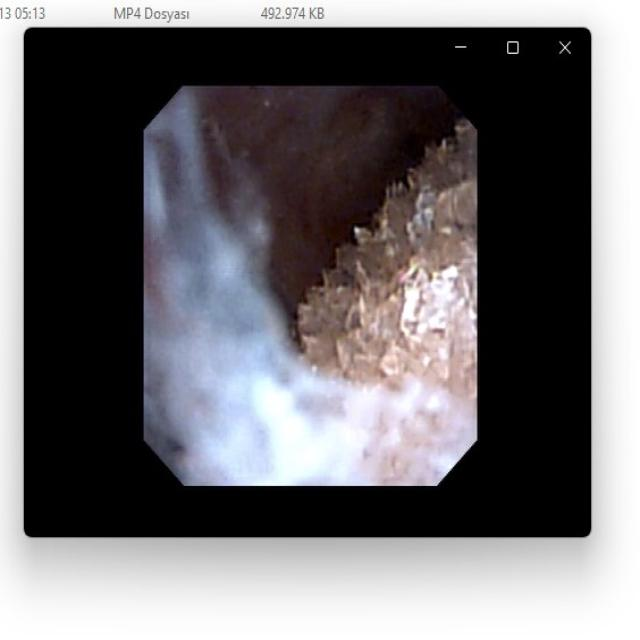stone: (292, 127, 473, 479)
